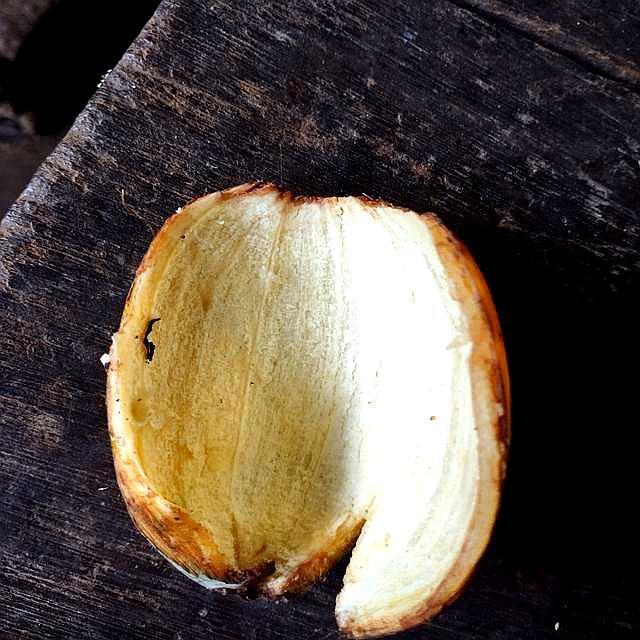Biodegradable: (111, 177, 499, 637)
